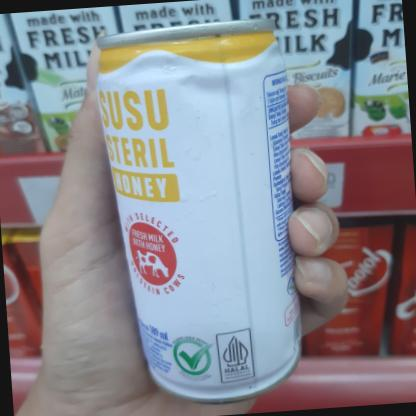alumunium_can: (75, 14, 340, 404)
